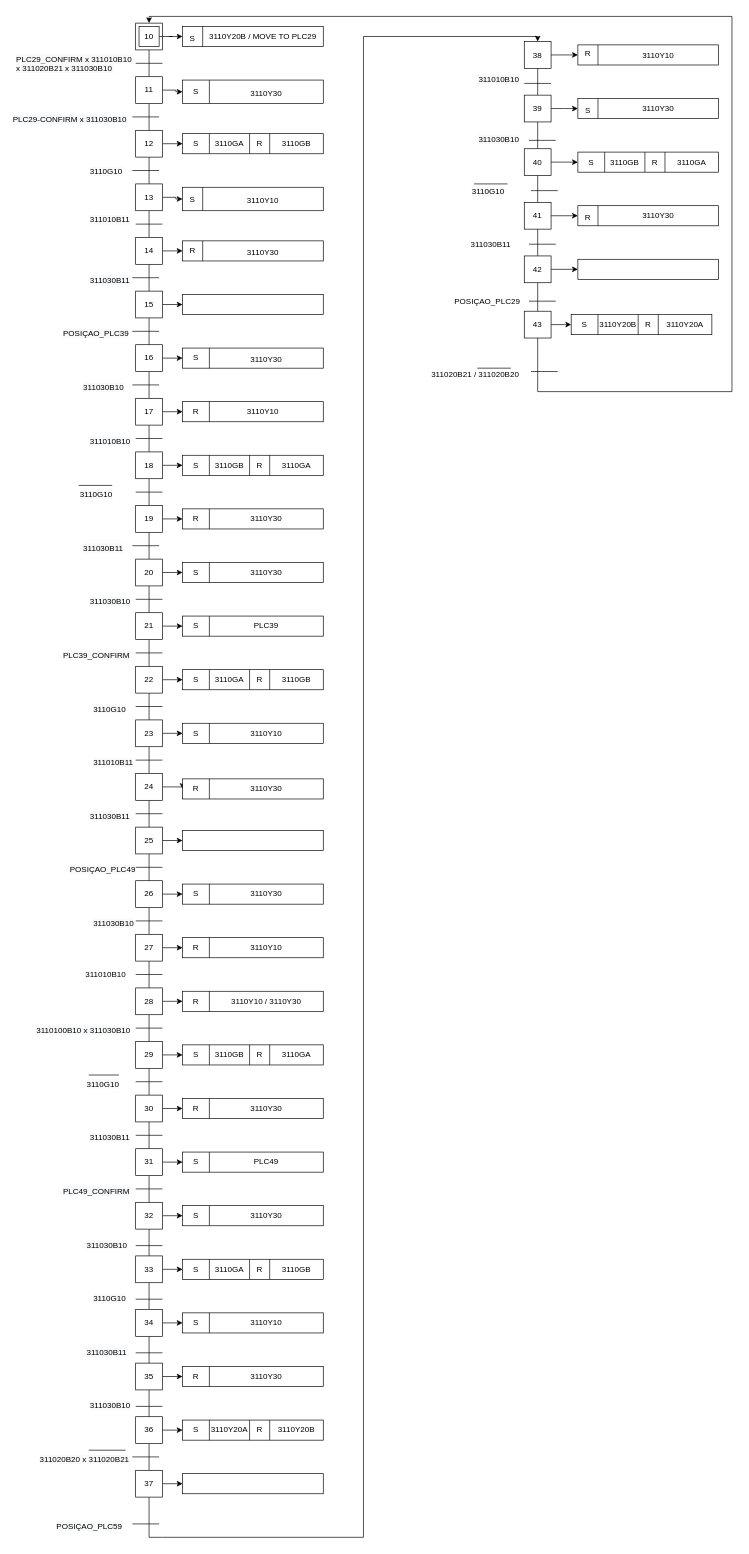
This 749x1554 diagram has some shape labels left out. The shapes that lost their labels are listed below. From the top down, each one's centre as x and y in pixels, then its label:
At (x=648, y=269): "MOVE TO PLC 19".
At (x=252, y=304): "Move to PLC39".
At (x=252, y=840): "Move to PLC 49".
At (x=252, y=1483): "MOVE TO PLC 59".
